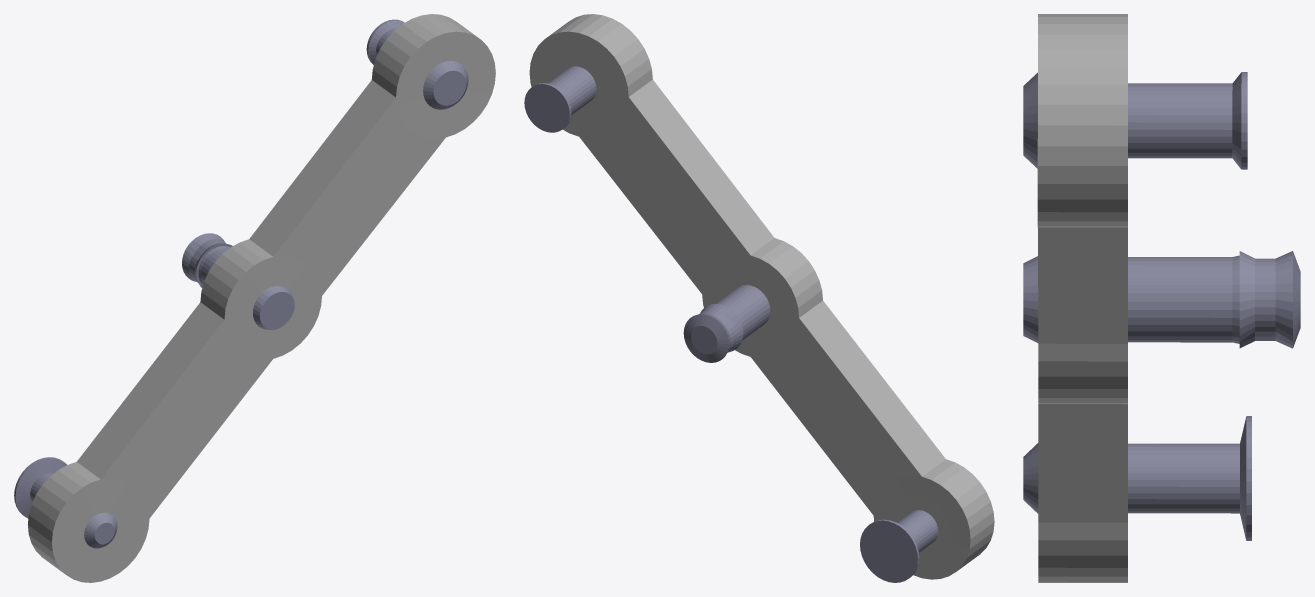
Rendered from felislinkC.dae.
3 renders of one model, left to right at view 1: azimuth 30°, elevation 25°; view 2: azimuth 150°, elevation 25°; view 3: azimuth 270°, elevation 25°, orthographic. The views are drawn at different scales.
Parts seen in each view (by area): view 1: LinkC; view 2: LinkC; view 3: LinkC.
Part boxes in pixels (left/top/right/bottom): LinkC: left=14, top=14, right=495, bottom=582; LinkC: left=524, top=14, right=994, bottom=582; LinkC: left=1023, top=14, right=1300, bottom=582.
Size of the model in its own units: 0.0637 by 0.0186 by 0.0637.
